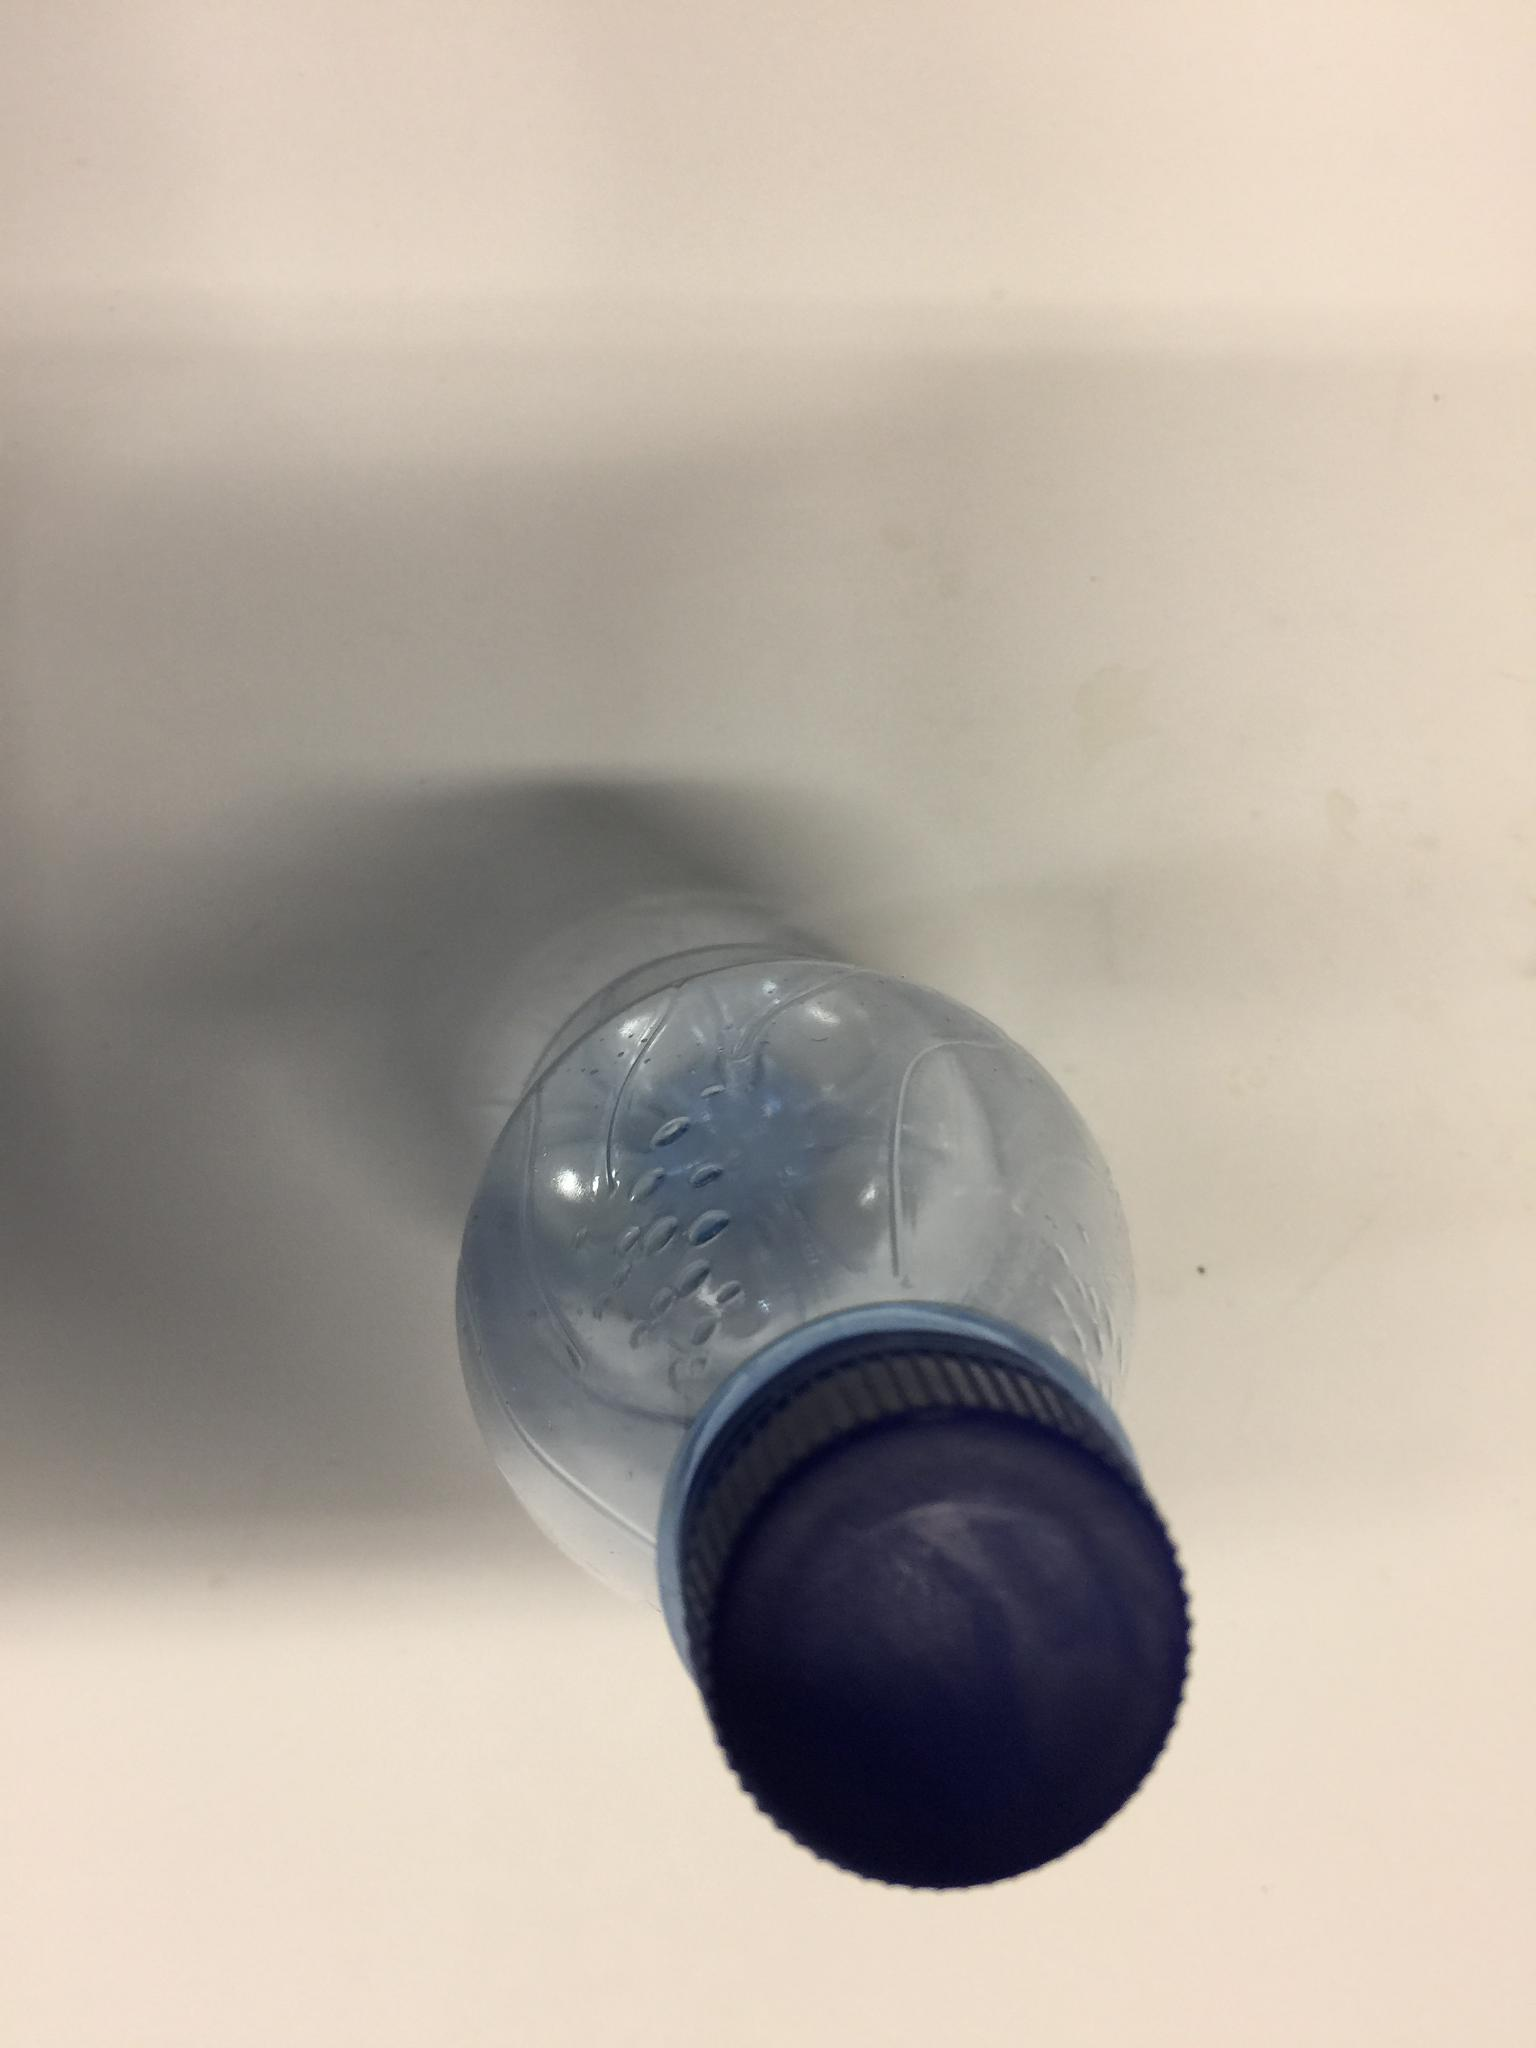Plastic: (436, 858, 1247, 1898)
